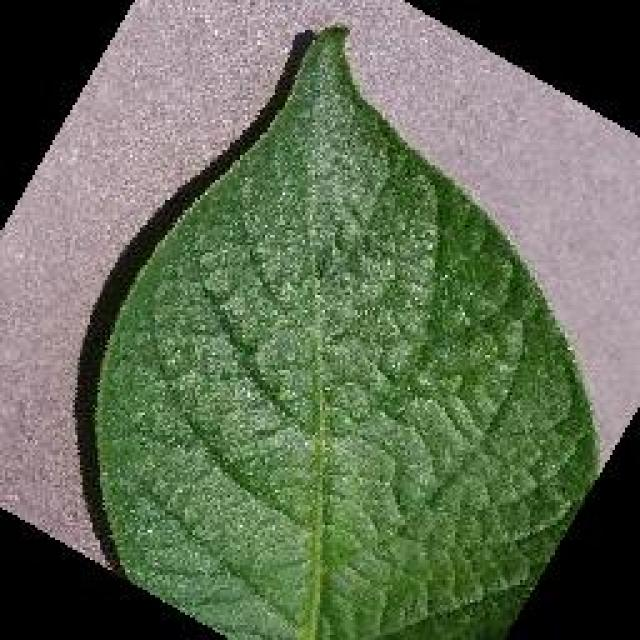Potato___healthy: (98, 27, 599, 638)
